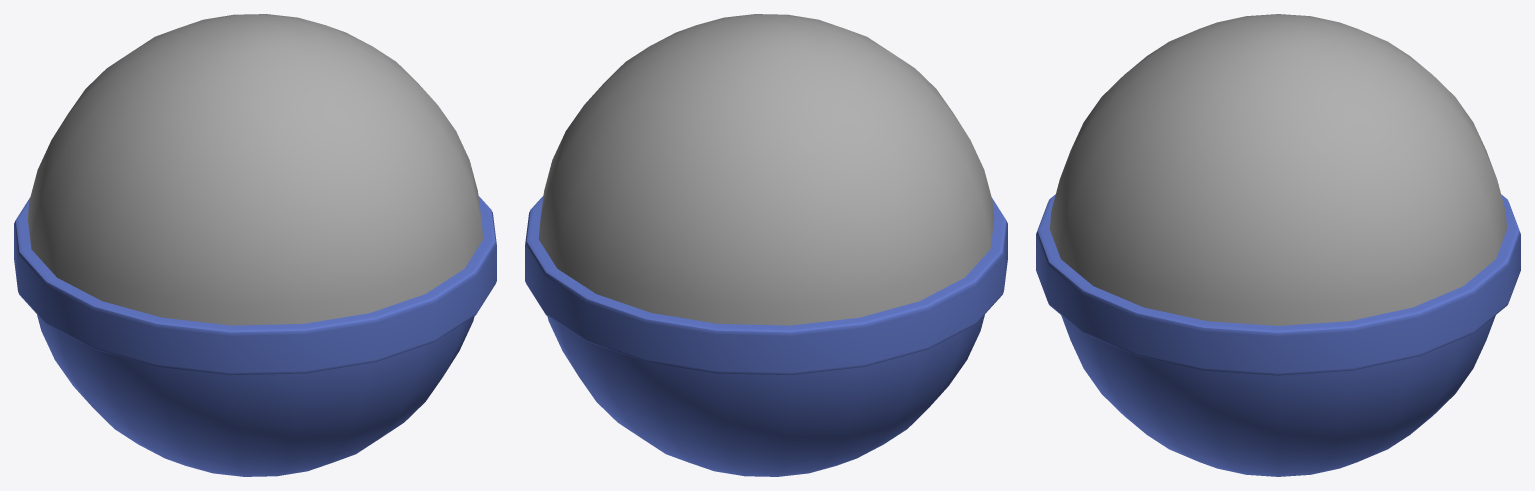
Rendered from boules.fbx.
The picture shows the model from 3 angles, left to right: view 1: azimuth 30°, elevation 25°; view 2: azimuth 150°, elevation 25°; view 3: azimuth 270°, elevation 25°; orthographic projection.
Parts seen in each view (by area): view 1: pSphere3, pPipe2; view 2: pSphere3, pPipe2; view 3: pSphere3, pPipe2.
Part boxes in pixels (x1,y1,x2,y2): pSphere3: (27,14,483,325); pPipe2: (14,195,496,476); pSphere3: (538,14,994,325); pPipe2: (525,195,1007,476); pSphere3: (1049,14,1507,325); pPipe2: (1036,194,1520,476).
Size of the model in its own units: 3.26 by 3.12 by 3.26.
